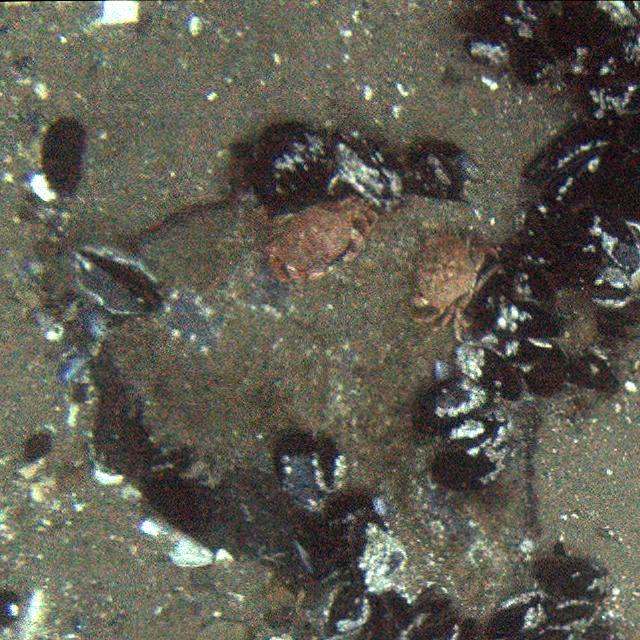crab: (268, 198, 387, 275), (413, 228, 496, 338)
